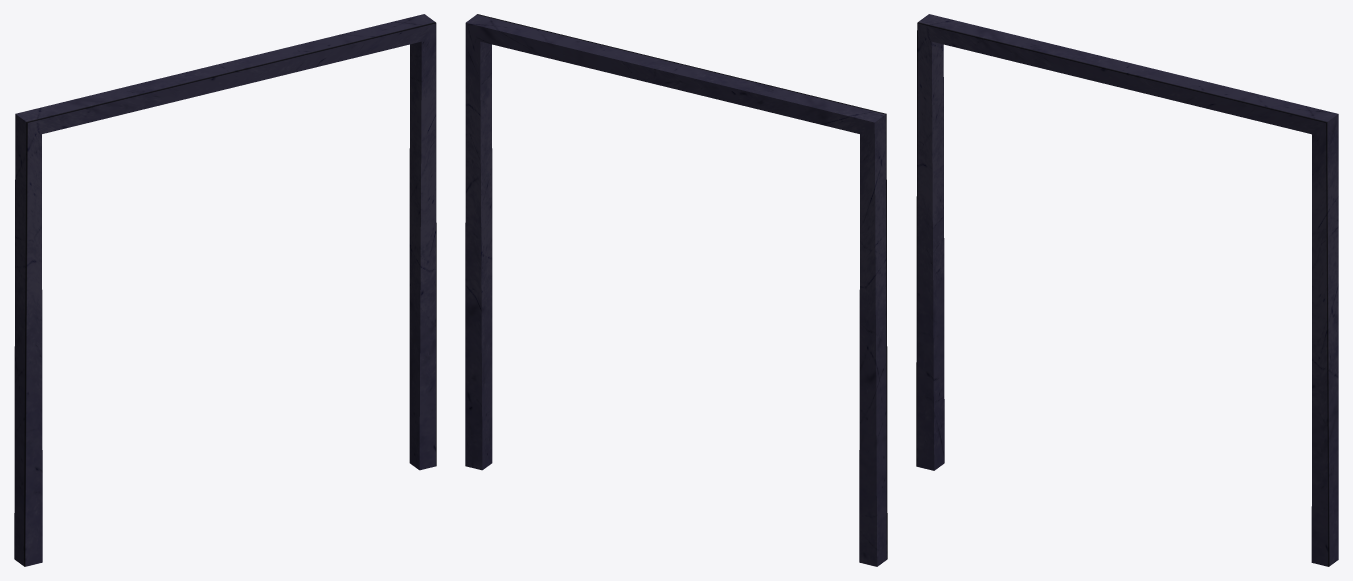
File: marco_persiana 1.fbx
3 renders of one model, left to right at view 1: azimuth 30°, elevation 25°; view 2: azimuth 150°, elevation 25°; view 3: azimuth 330°, elevation 25°, orthographic.
Parts seen in each view (by area): view 1: Plane.017; view 2: Plane.017; view 3: Plane.017.
Part boxes in pixels (x1,y1,x2,y2): Plane.017: (14, 14, 436, 566); Plane.017: (465, 14, 887, 566); Plane.017: (916, 14, 1338, 566).
Size of the model in its own units: 395 by 407 by 19.8.
